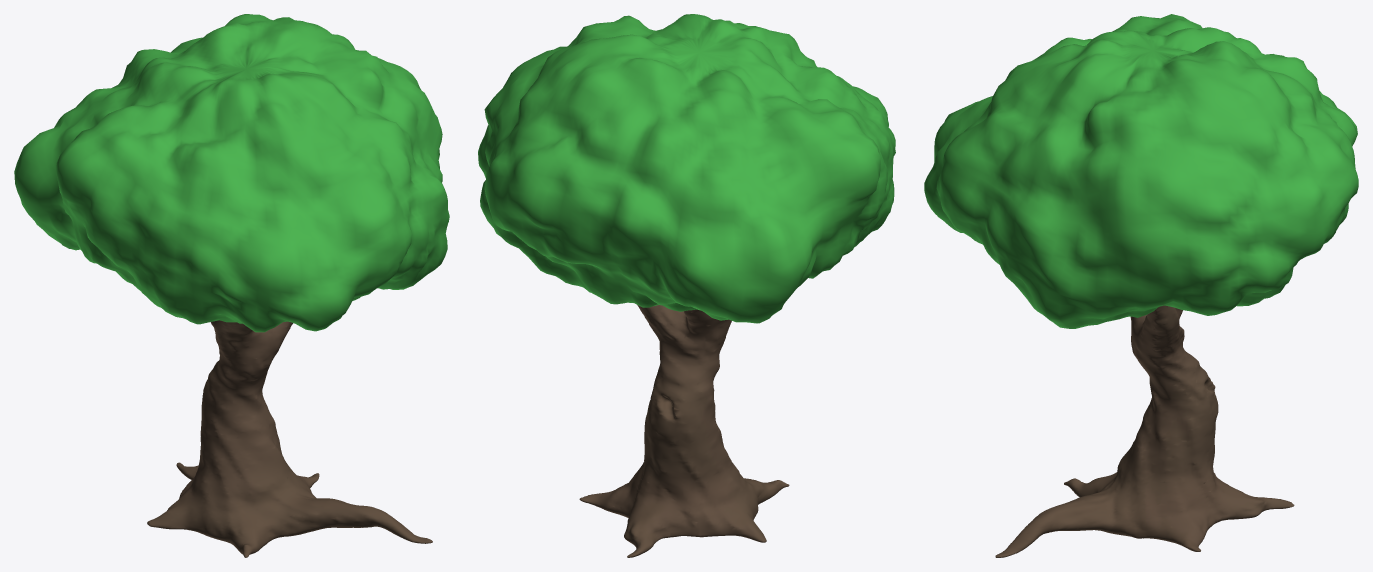
File: arbolcopa2.fbx
3 views of the same model, side by side, from view 1: azimuth 30°, elevation 25°; view 2: azimuth 150°, elevation 25°; view 3: azimuth 270°, elevation 25° (orthographic). The views are drawn at different scales.
Parts seen in each view (by area): view 1: Sphere, tree_lp; view 2: Sphere, tree_lp; view 3: Sphere, tree_lp.
Boxes of the visible parts, x1=… form: Sphere: x1=14, y1=14, x2=449, y2=332; tree_lp: x1=147, y1=320, x2=432, y2=557; Sphere: x1=478, y1=14, x2=895, y2=323; tree_lp: x1=579, y1=305, x2=789, y2=557; Sphere: x1=924, y1=14, x2=1358, y2=328; tree_lp: x1=995, y1=305, x2=1294, y2=557.
Size of the model in its own units: 569 by 694 by 567.
